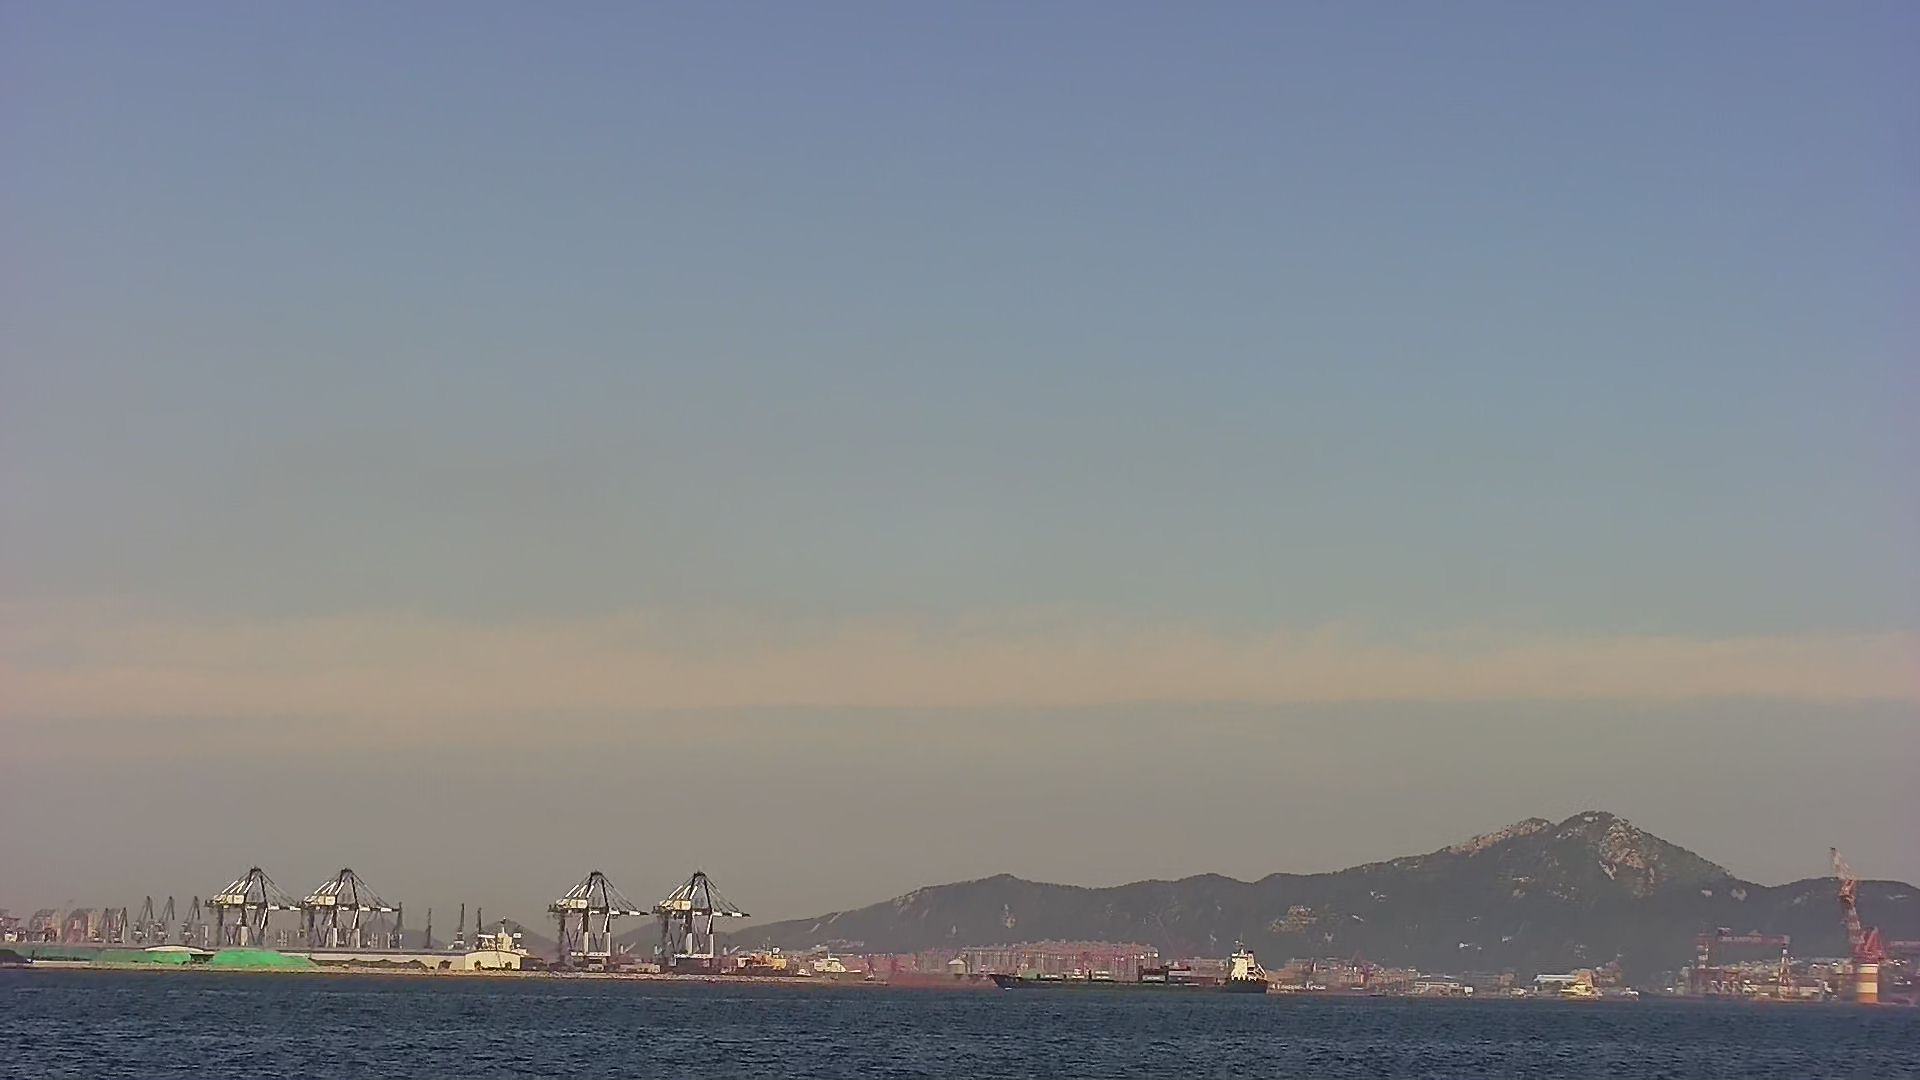ship: (990, 945, 1273, 996)
